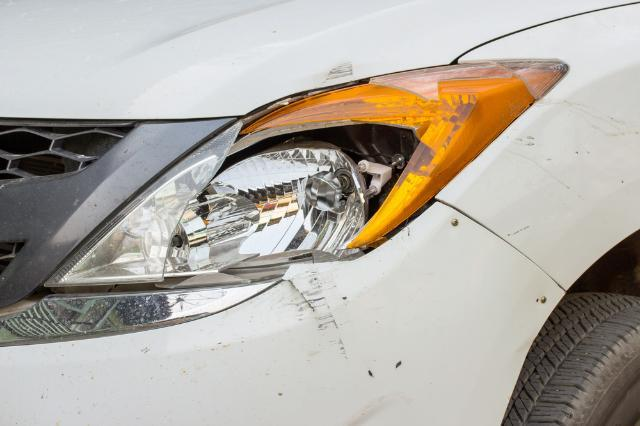crack: (281, 279, 318, 314)
lamp broken: (40, 58, 567, 290)
scratch: (288, 274, 349, 363)
